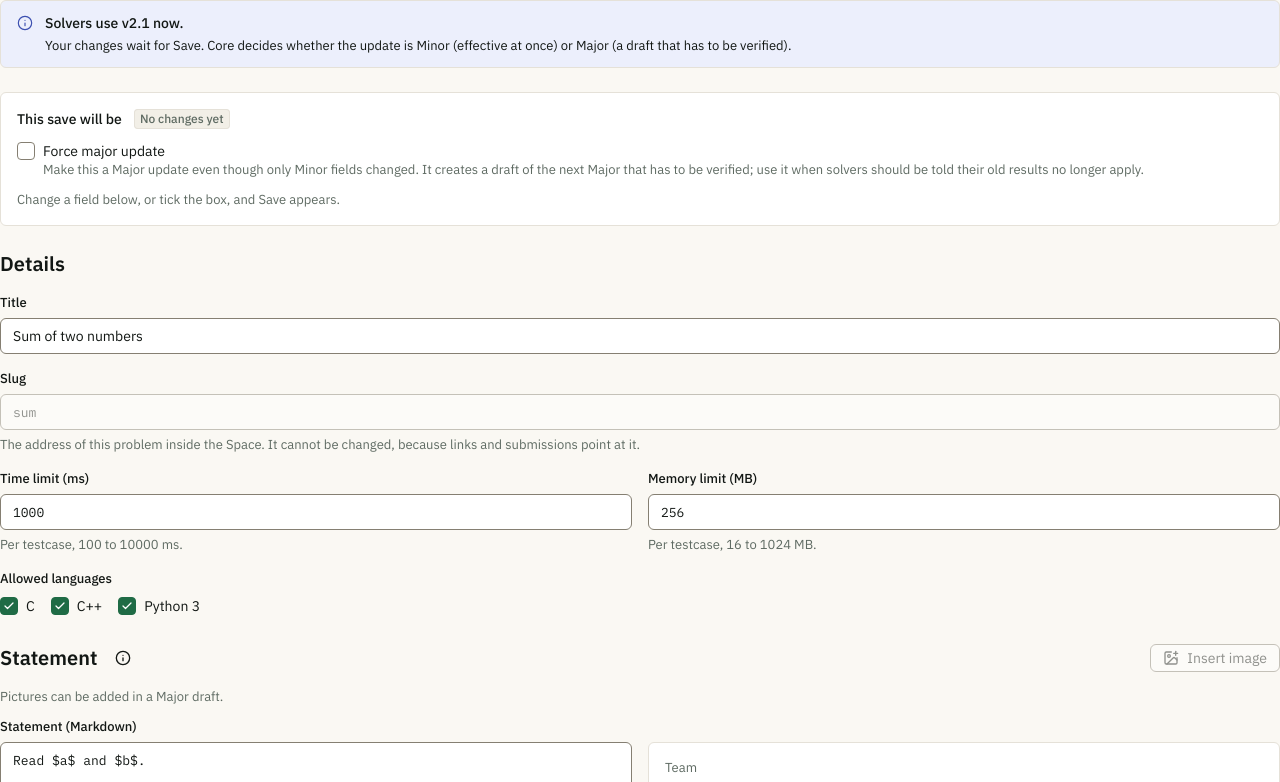
it: the update form of a published problem › predicts Minor for a title change and sends expected_version, then toasts the new number
The image size is (1280, 782).
Replace the text in the field labelled "Title" with "Sum" at (640, 336), box [0,318,1279,354]
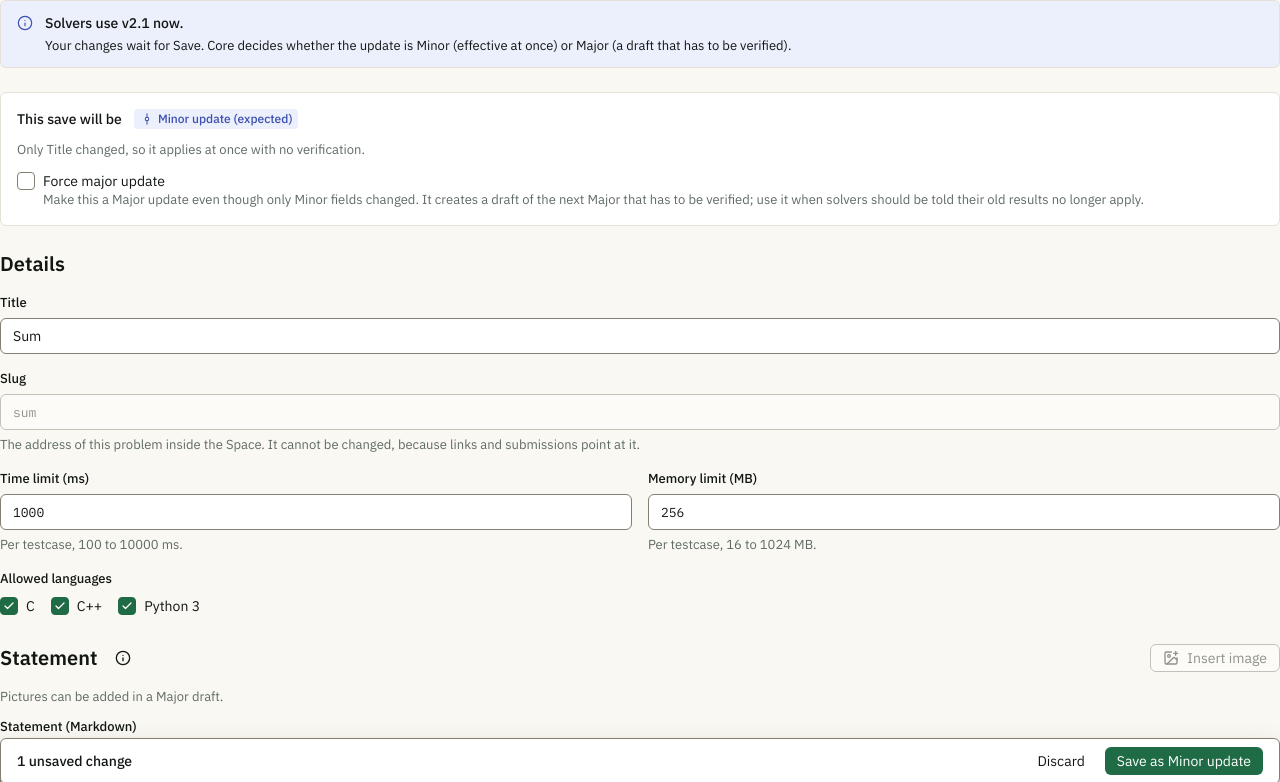
Result: the text "Minor update (expected)" is shown at [134,109,298,129]
Click the button "Save as Minor update".
click(1184, 761)  # box [1105,747,1263,775]
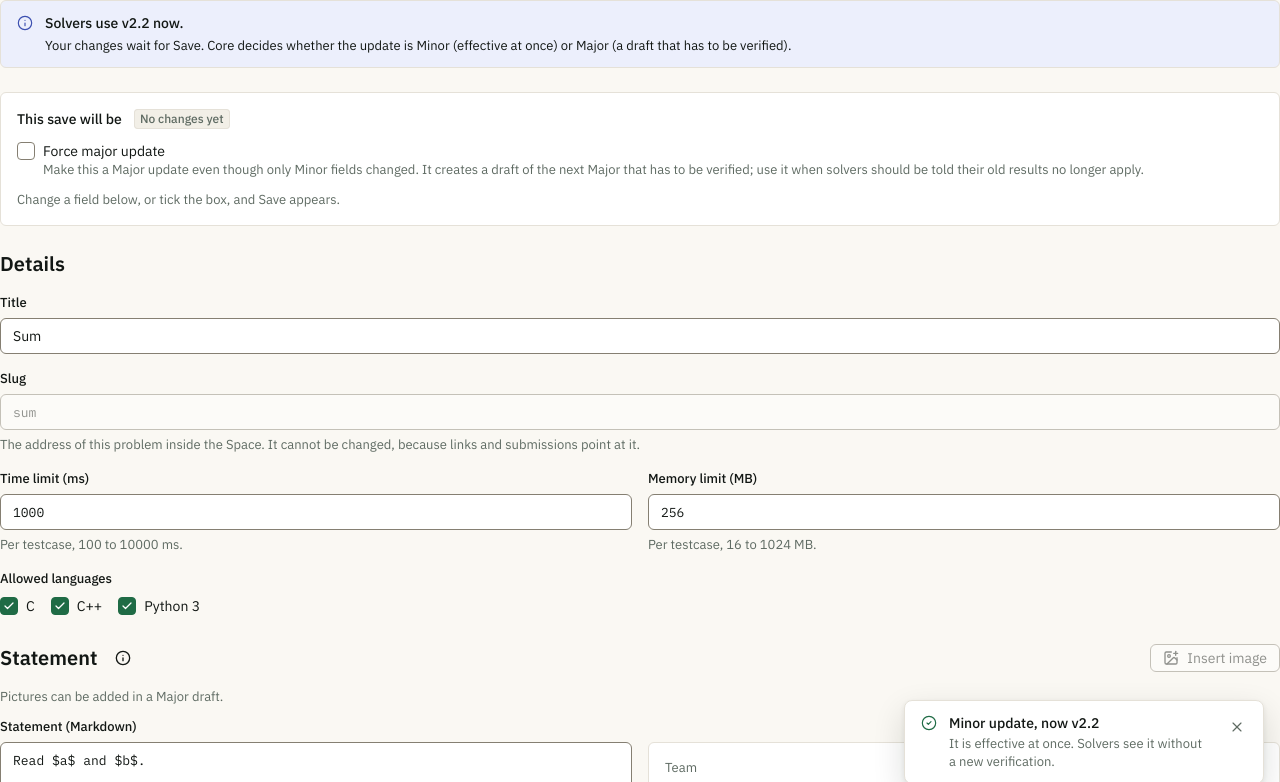
Result: the text "Minor update, now v2.2" is shown at [949,714,1099,732]
